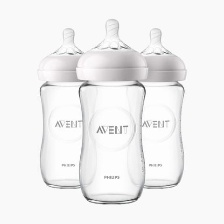bottle: (76, 65, 153, 208), (123, 66, 192, 191), (33, 69, 101, 190)
